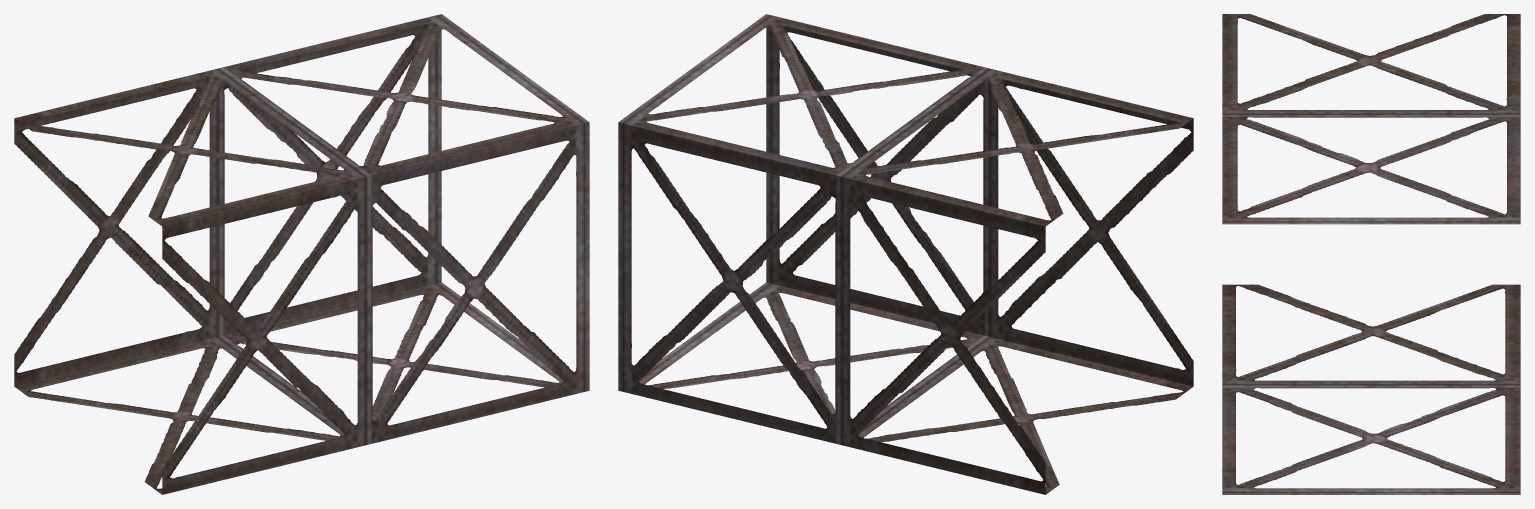
File: supports_sign_2m.fbx
3 renders of one model, left to right at view 1: azimuth 30°, elevation 25°; view 2: azimuth 150°, elevation 25°; view 3: azimuth 270°, elevation 25°, orthographic.
Visible parts, largest first — view 1: mesh_0; view 2: mesh_0; view 3: mesh_0.
Part boxes in pixels (x1=…): mesh_0: x1=14, y1=14, x2=589, y2=494; mesh_0: x1=618, y1=14, x2=1193, y2=494; mesh_0: x1=1222, y1=14, x2=1520, y2=494.
Size of the model in its own units: 200 by 120 by 120.
Materials: 1 (1 with a texture image).
